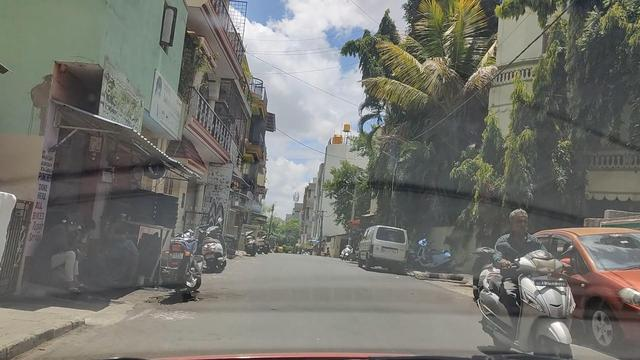LMV: (488, 202, 571, 360)
